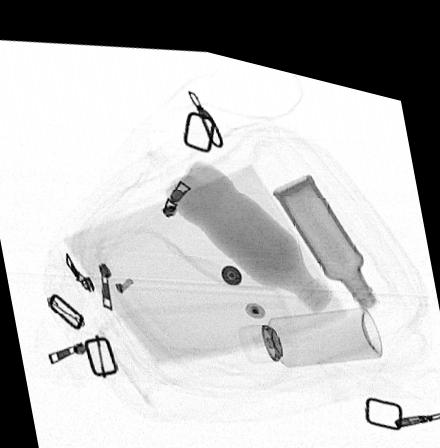Sprayer: (236, 287, 381, 350)
